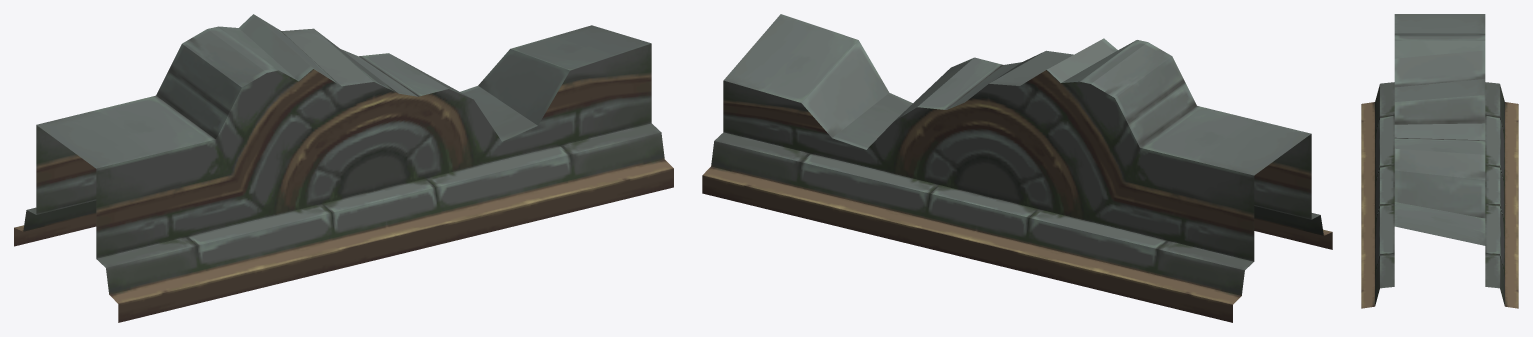
Rendered from yw_shanlin_parapet_005.FBX.
The picture shows the model from 3 angles, left to right: view 1: azimuth 30°, elevation 25°; view 2: azimuth 150°, elevation 25°; view 3: azimuth 270°, elevation 25°; orthographic projection. The views are drawn at different scales.
Visible parts, largest first — view 1: yw_shanlin_parapet_005; view 2: yw_shanlin_parapet_005; view 3: yw_shanlin_parapet_005.
Part boxes in pixels (box(x1,y1,x2,y2)): yw_shanlin_parapet_005: box(14, 14, 673, 322); yw_shanlin_parapet_005: box(702, 14, 1332, 322); yw_shanlin_parapet_005: box(1361, 14, 1518, 308).
Bounding box in the file's own units: 488 × 159 × 164.
